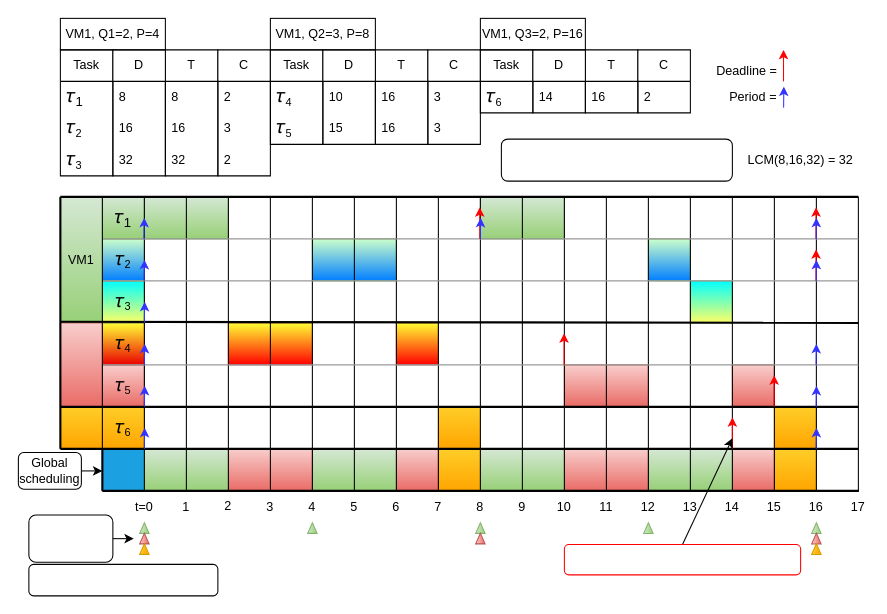
The diagram is 887 pixels wide and 614 high, and some of its shapes have lost their labels. Each missing label, with the box of its shape:
Assumption: Period = Deadline: (28, 563, 218, 596)
Deadline Monotonic Scheduling (Locally and globally): (500, 138, 732, 181)
Periods of VM Budgets: (28, 514, 113, 562)
VM: (101, 448, 144, 491)
VM2: (59, 322, 102, 407)
VM3: (59, 406, 102, 449)
𝜏 6 Deadline missed here: (563, 543, 801, 575)
